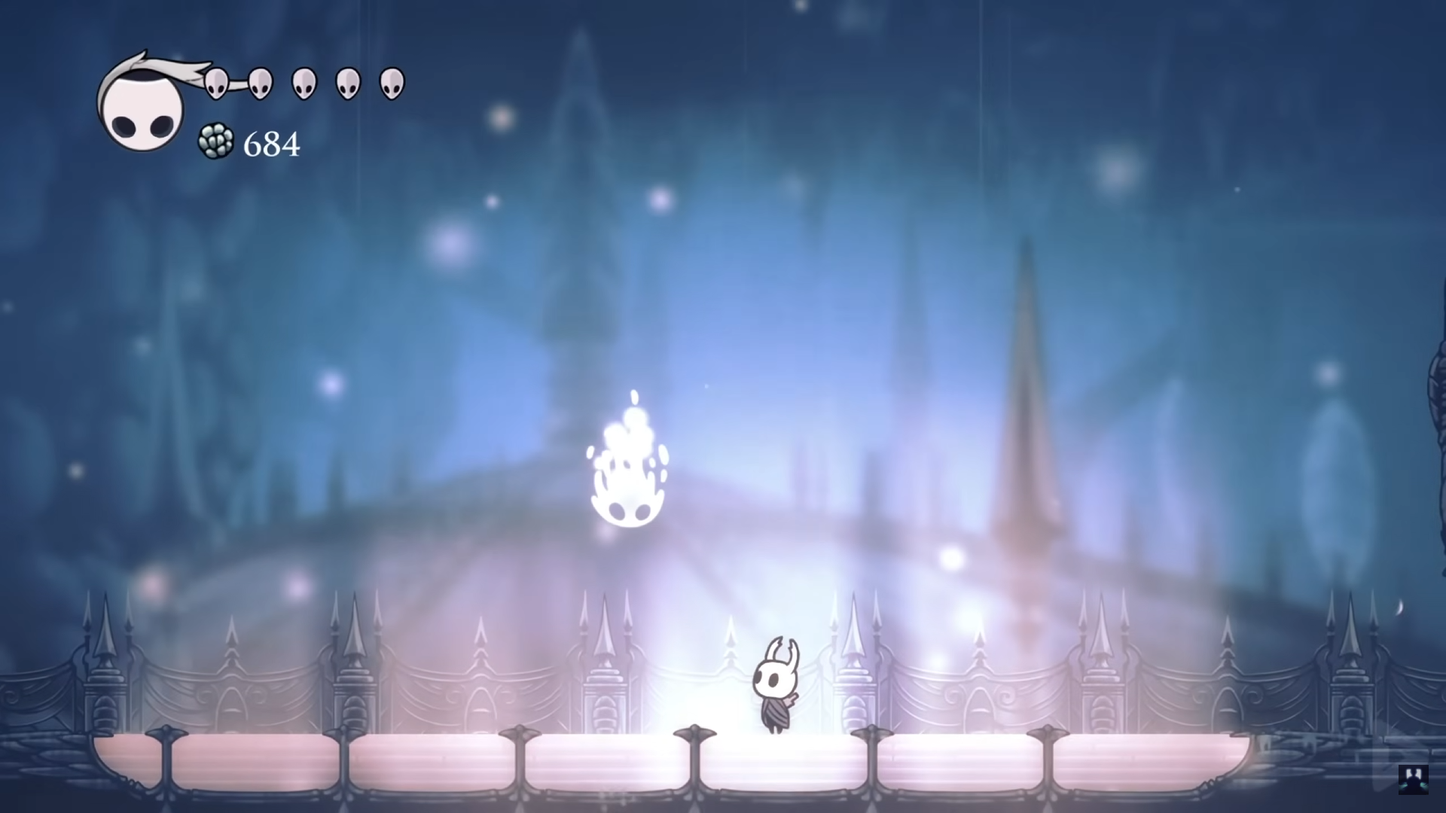HK: (743, 632, 803, 744)
